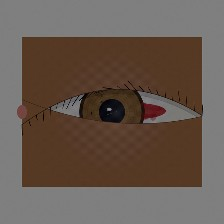hemorrhage_spot: (89, 75, 178, 147)
